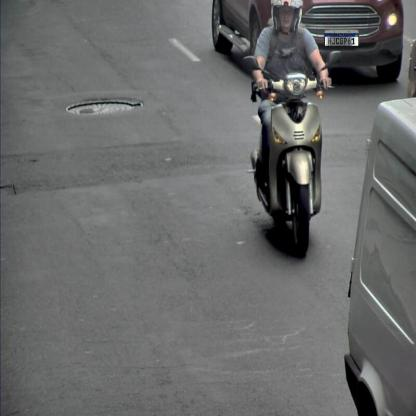PlacaM: (324, 34, 359, 46)
